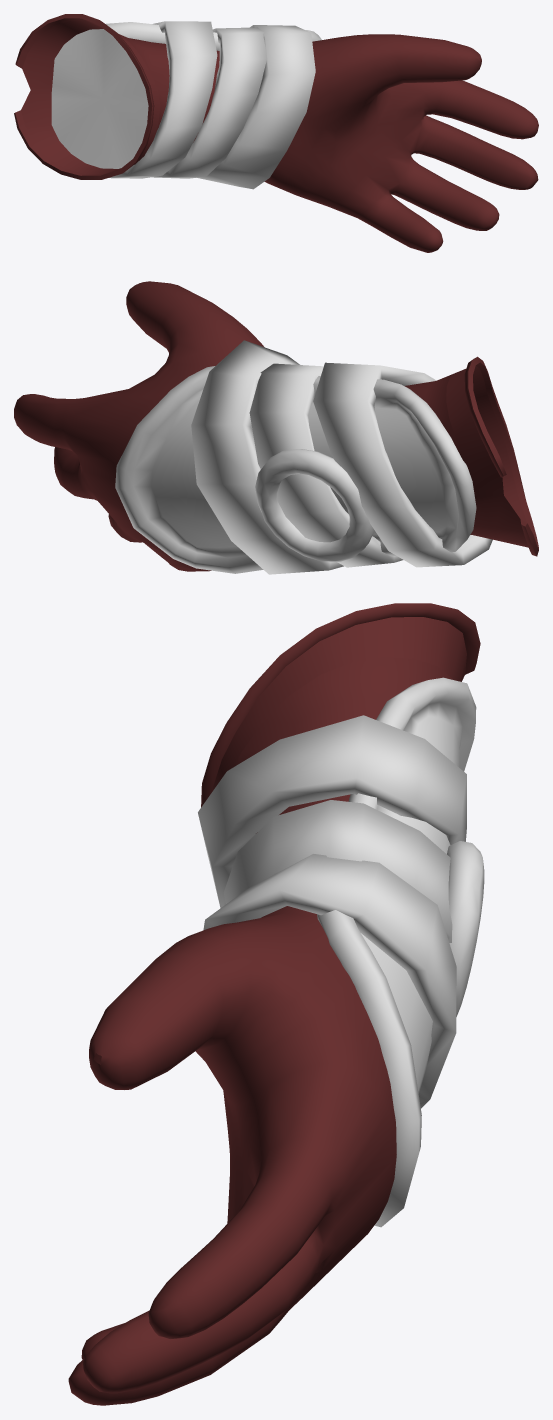
The model's file is hand.fbx.
3 renders of one model, top to bottom at view 1: azimuth 30°, elevation 25°; view 2: azimuth 150°, elevation 25°; view 3: azimuth 270°, elevation 25°, orthographic. The views are drawn at different scales.
Parts seen in each view (by area): view 1: hands1; view 2: hands1; view 3: hands1.
Part boxes in pixels (<box>): hands1: <box>14,14,538,252</box>; hands1: <box>14,281,538,574</box>; hands1: <box>68,603,484,1405</box>.
Size of the model in its own units: 52.18 by 27.73 by 20.65.
